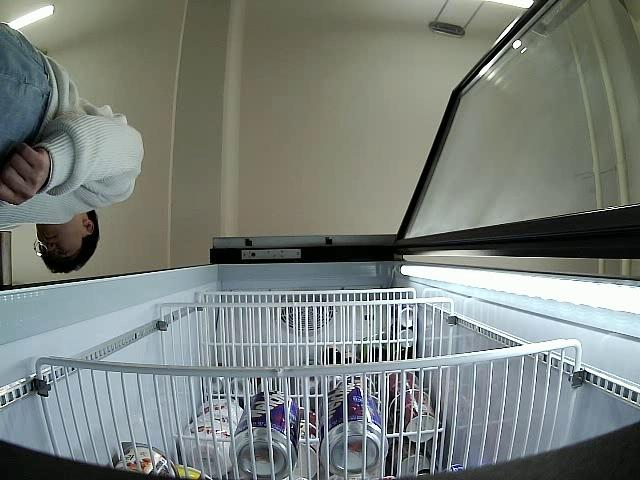00_hand: (0, 137, 49, 211)
